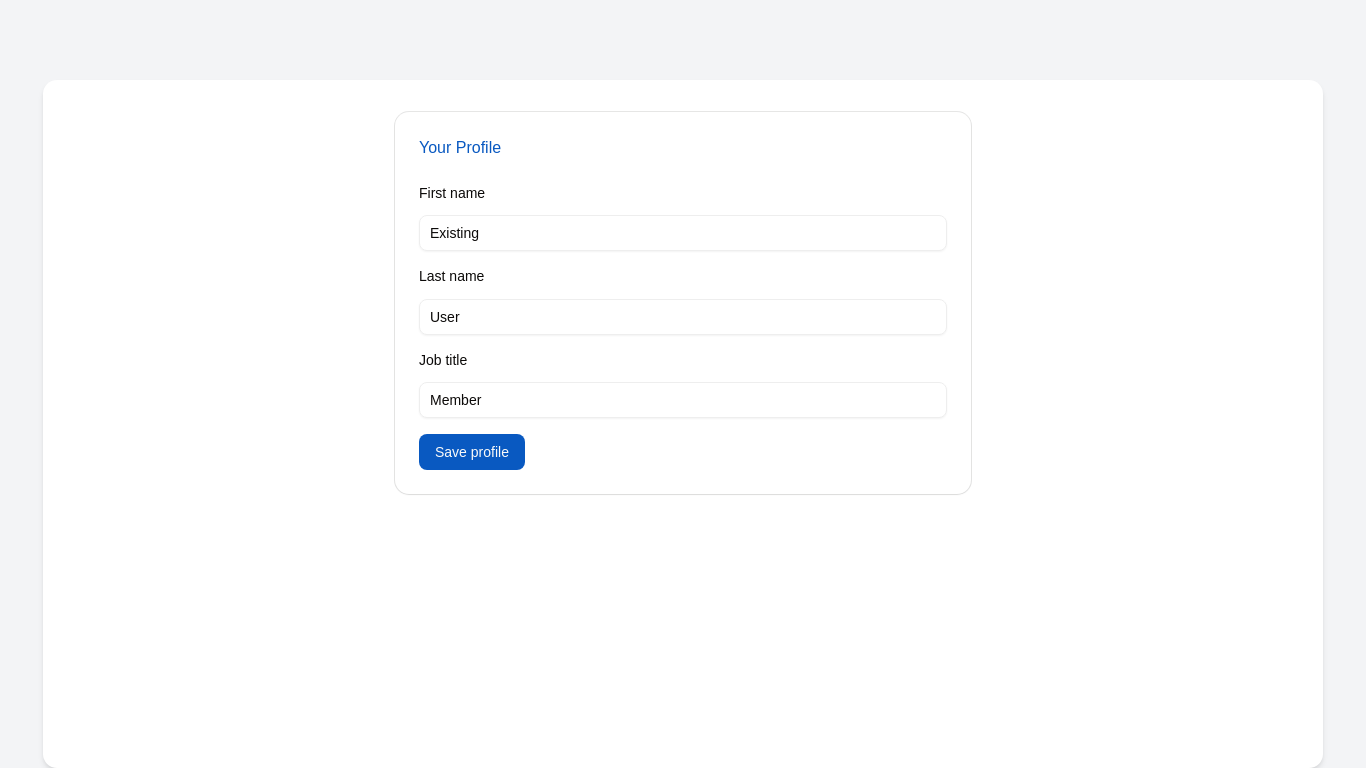
ProfilePage › shows an inline error when the save fails
Click the button "Save profile".
click(472, 452)  # box [419,434,525,470]
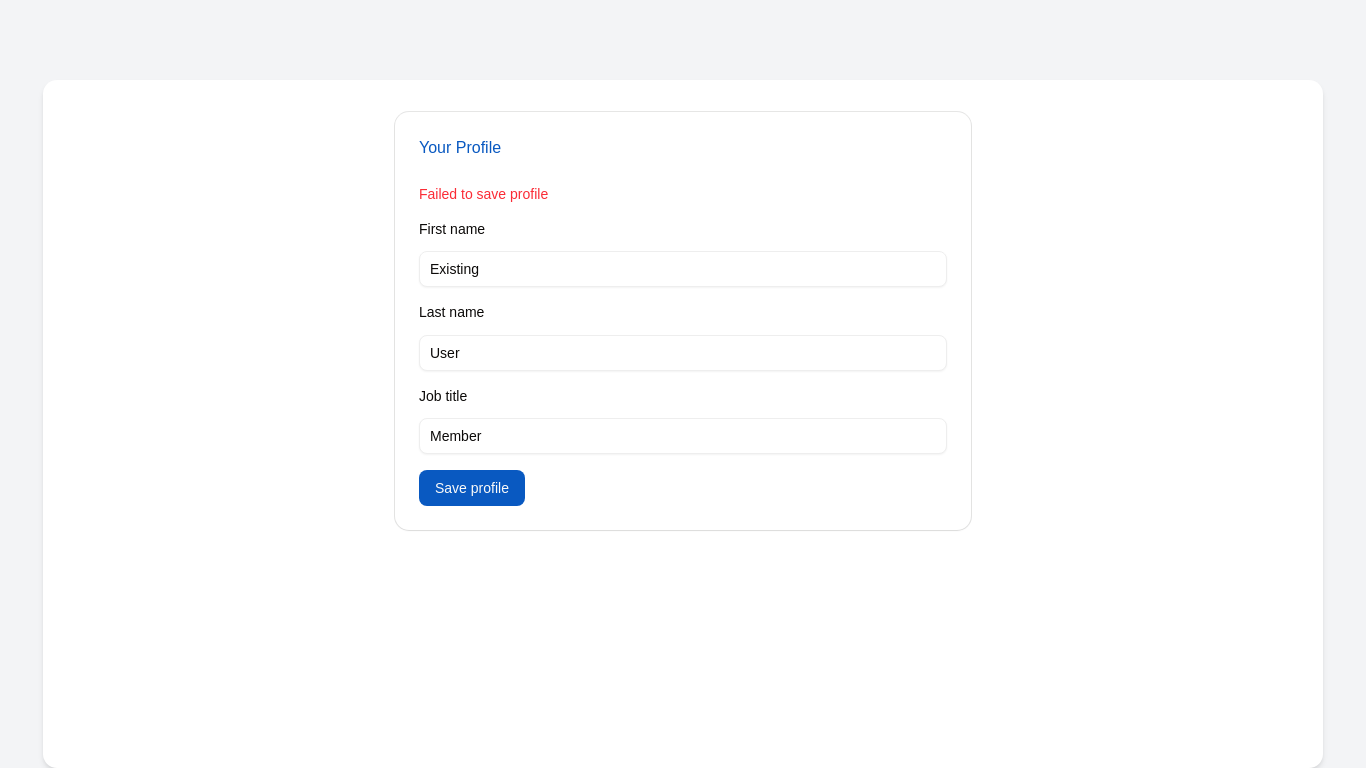
Now the text "Failed to save profile" is shown, box [419,186,548,202]
